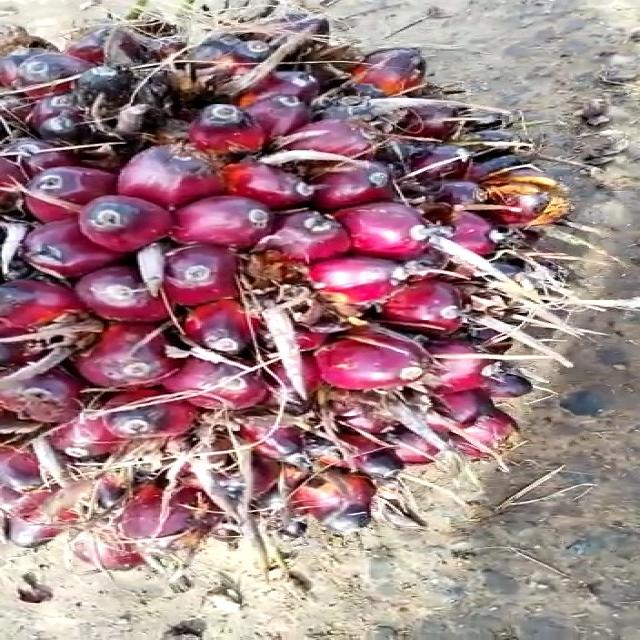palm oil: (0, 0, 602, 582)
